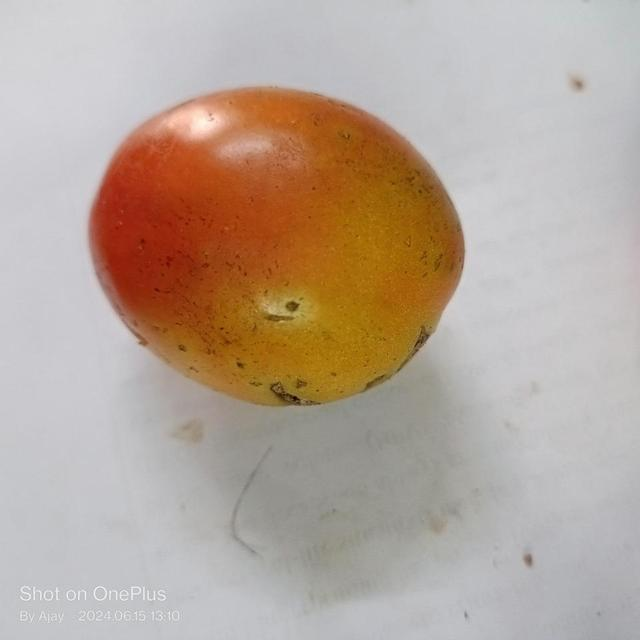Bacterial Spot Fruit: (20, 19, 196, 262)
